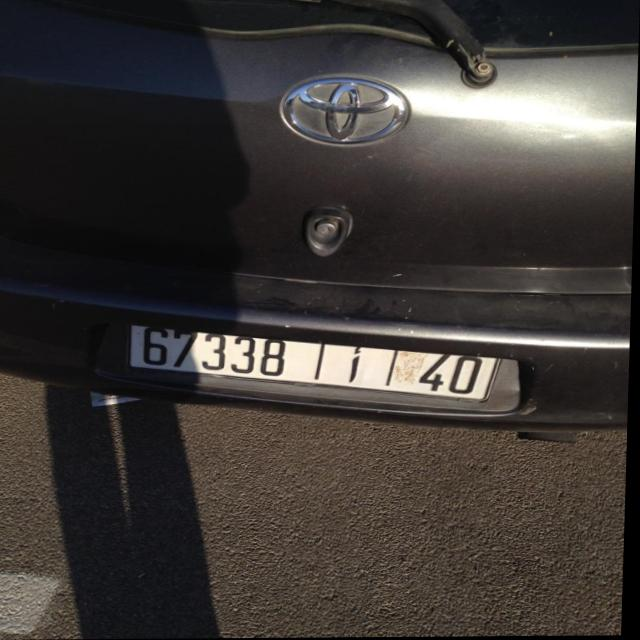License-Plate: (131, 325, 500, 402)
